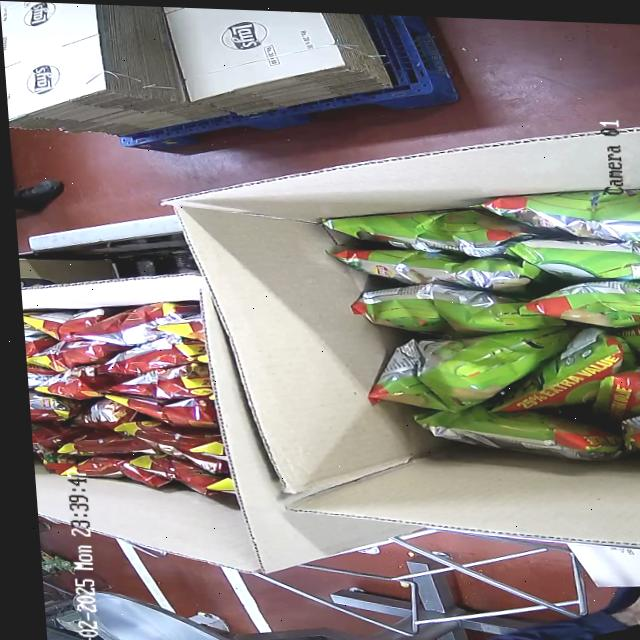MASALA: (22, 295, 235, 501)
YOGURT_HERB: (324, 172, 640, 466)
